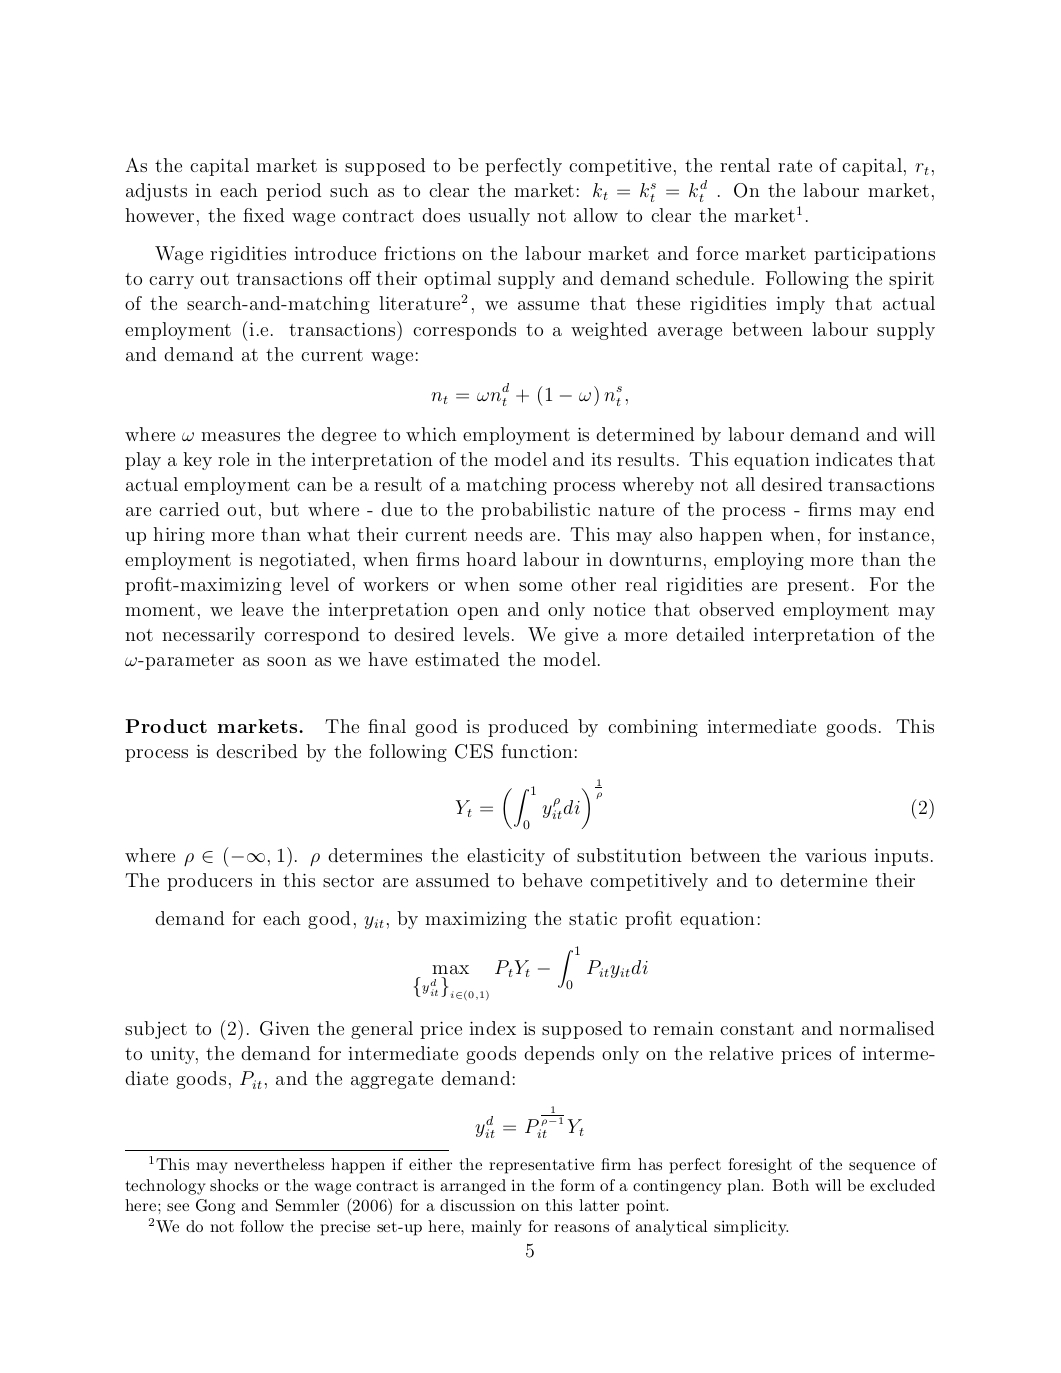formula: (455, 778, 933, 830), (413, 945, 648, 1001), (431, 382, 627, 406), (475, 1106, 583, 1137)
